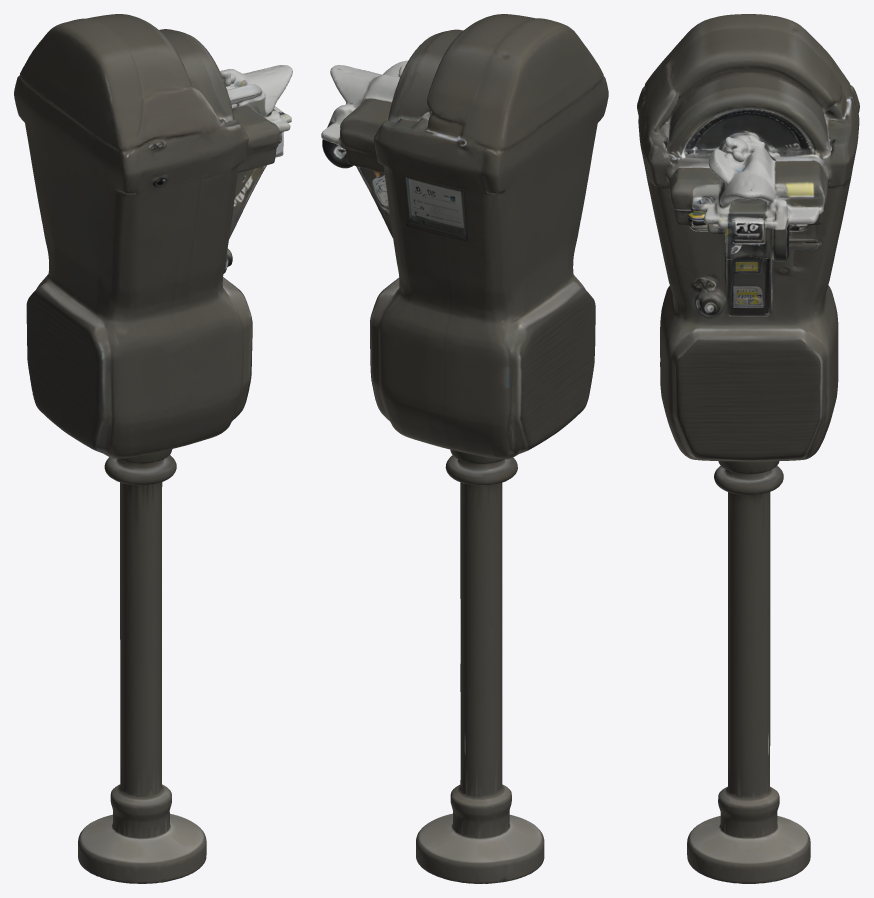
File: prop-parking-meter.glb
3 views of the same model, side by side, from view 1: azimuth 30°, elevation 25°; view 2: azimuth 150°, elevation 25°; view 3: azimuth 270°, elevation 25° (orthographic). The views are drawn at different scales.
Parts seen in each view (by area): view 1: tripo_node_d01b05a5-68d4-49ae-a532-e3b59e5ef6fb; view 2: tripo_node_d01b05a5-68d4-49ae-a532-e3b59e5ef6fb; view 3: tripo_node_d01b05a5-68d4-49ae-a532-e3b59e5ef6fb.
Boxes of the visible parts, box(x1,y1,x2,y2) form: tripo_node_d01b05a5-68d4-49ae-a532-e3b59e5ef6fb: box(14, 14, 292, 883); tripo_node_d01b05a5-68d4-49ae-a532-e3b59e5ef6fb: box(321, 14, 608, 883); tripo_node_d01b05a5-68d4-49ae-a532-e3b59e5ef6fb: box(637, 14, 859, 883).
Bounding box in the file's own units: 0.4287 × 1.5 × 0.3715.
1 material, 1 textured.
